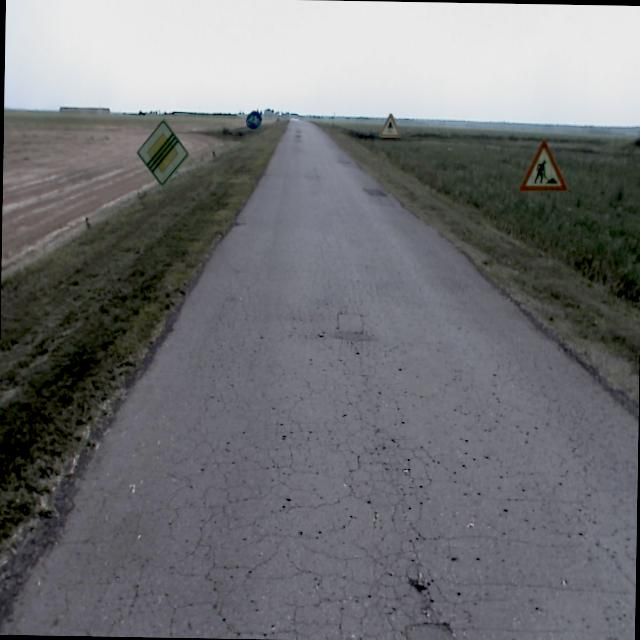road: (0, 118, 638, 640)
